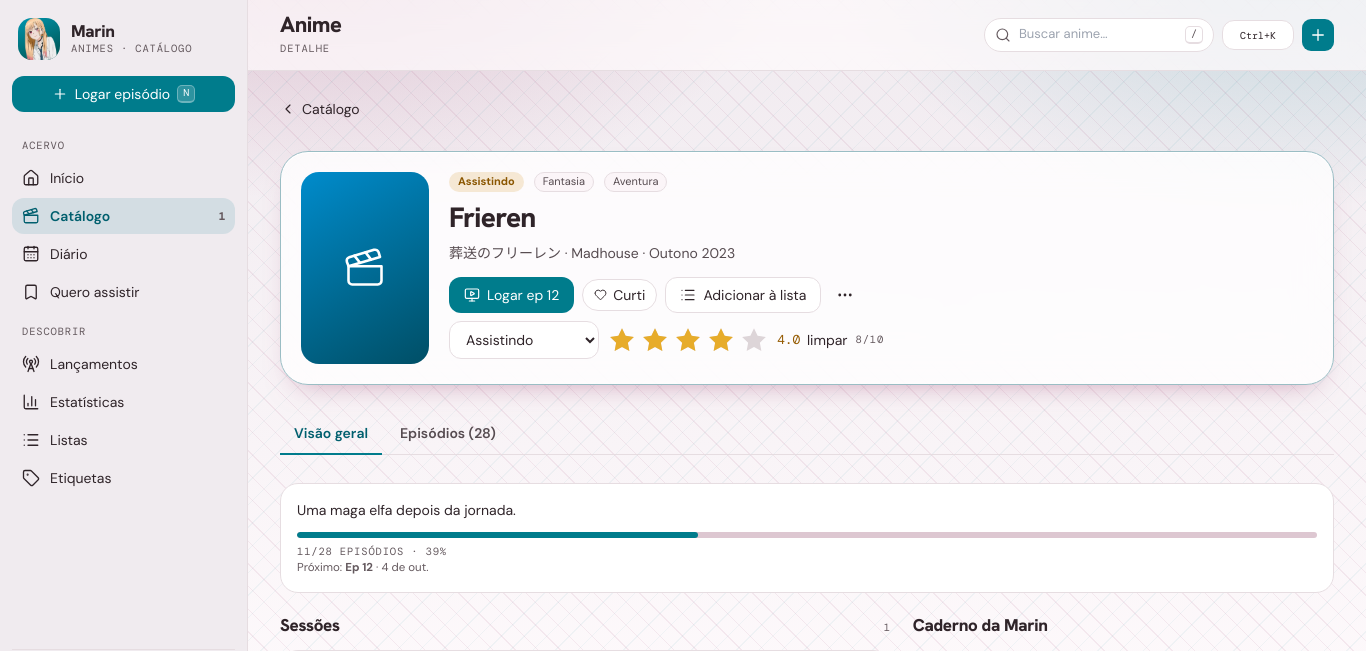
detalhe do anime › "Atualizar dados" fica desligado para anime sem MyAnimeList
Click the button named "Mais ações do anime". click: [845, 295]
box: [829,279,861,311]
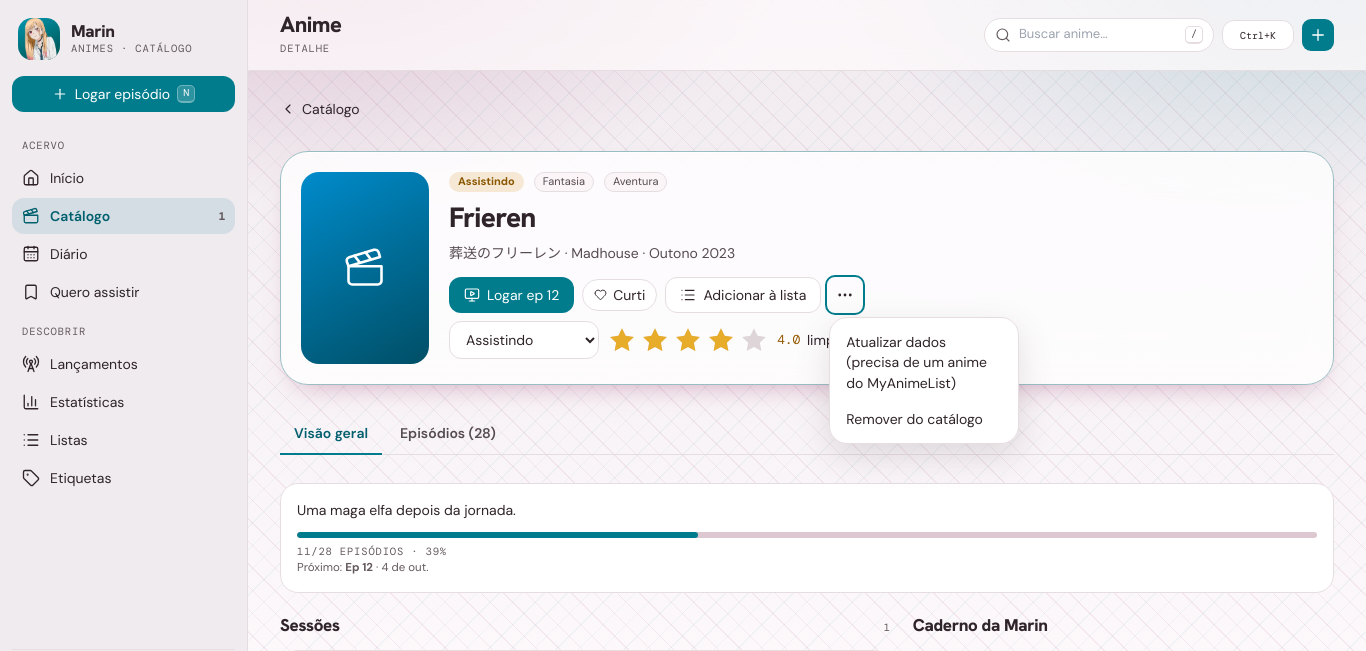
Now the menu item "Atualizar dados (precisa de um anime do MyAnimeList)" is disabled, box [836,324,1012,401]
